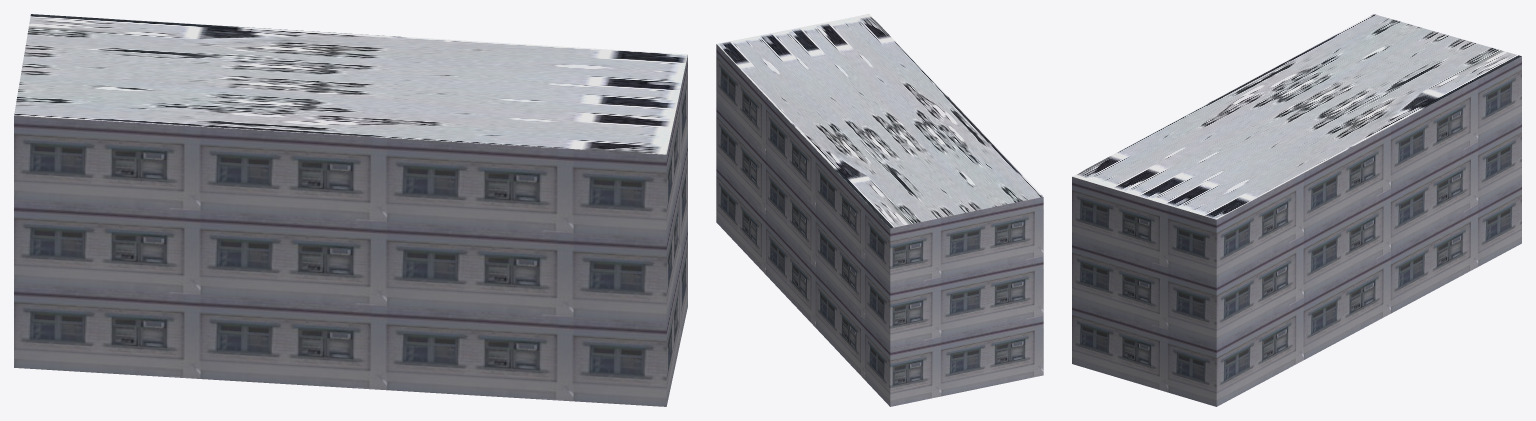
The model's file is ResTex__1859.fbx.
3 renders of one model, left to right at view 1: azimuth 30°, elevation 25°; view 2: azimuth 150°, elevation 25°; view 3: azimuth 270°, elevation 25°, orthographic. The views are drawn at different scales.
Visible parts, largest first — view 1: CityEngineMaterial_1_m, CityEngineMaterial_4_m; view 2: CityEngineMaterial_1_m, CityEngineMaterial_4_m; view 3: CityEngineMaterial_1_m, CityEngineMaterial_4_m.
Part boxes in pixels (x1,y1,x2,y2): CityEngineMaterial_1_m: (14, 55, 687, 406); CityEngineMaterial_4_m: (14, 14, 687, 154); CityEngineMaterial_1_m: (716, 44, 1043, 406); CityEngineMaterial_4_m: (717, 14, 1042, 228); CityEngineMaterial_1_m: (1072, 56, 1521, 406); CityEngineMaterial_4_m: (1072, 14, 1521, 219).
Bounding box in the file's own units: 21.2 × 9 × 19.6.
Materials: 2 (2 with a texture image).
